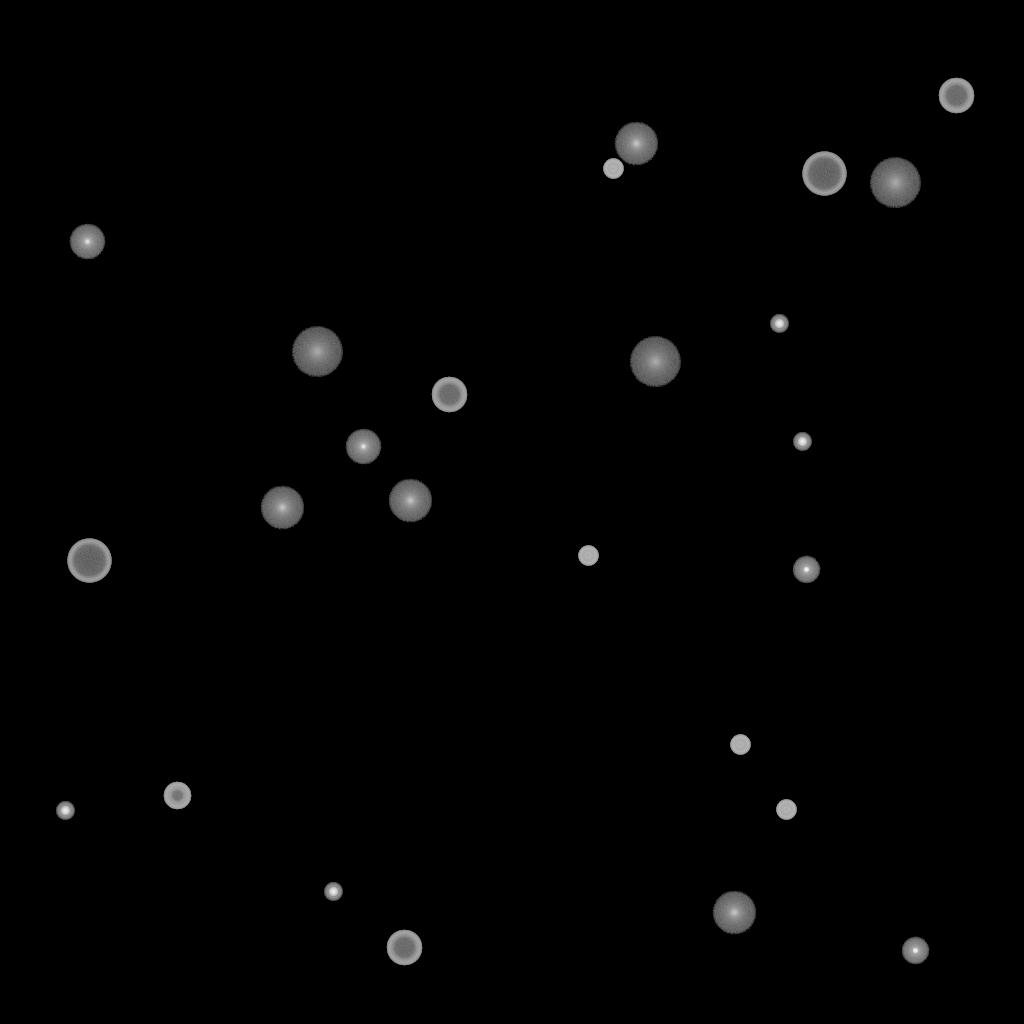depth:-10: (901, 937, 929, 965), (792, 556, 820, 584)
depth:-20: (324, 883, 342, 901), (770, 315, 788, 333), (56, 802, 74, 820), (793, 433, 811, 451)
depth:-40: (776, 800, 796, 820), (603, 159, 623, 179), (730, 735, 750, 755), (578, 546, 598, 566)
depth:-50: (163, 782, 191, 810)
depth:-60: (431, 377, 467, 413), (386, 930, 422, 966), (938, 78, 974, 114)
depth:-70: (802, 152, 846, 196), (67, 539, 111, 583)
depth:0: (345, 429, 381, 465), (69, 224, 105, 260)
depth:10: (388, 479, 432, 523), (614, 122, 658, 166), (712, 891, 756, 935), (260, 486, 304, 530)
depth:20: (629, 337, 681, 387), (869, 158, 921, 208), (291, 327, 343, 377)
